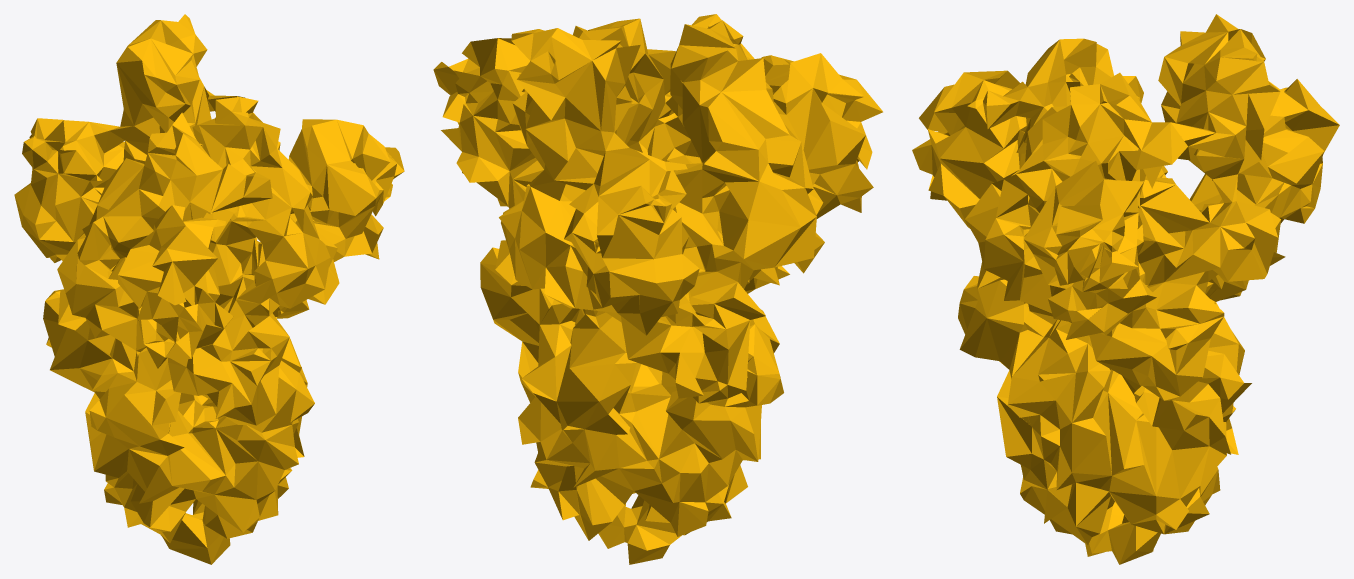
File: PDB-6VSB-surf.gltf
3 views of the same model, side by side, from view 1: azimuth 30°, elevation 25°; view 2: azimuth 150°, elevation 25°; view 3: azimuth 270°, elevation 25° (orthographic). The views are drawn at different scales.
Size of the model in its own units: 0.121 by 0.1717 by 0.1237.
